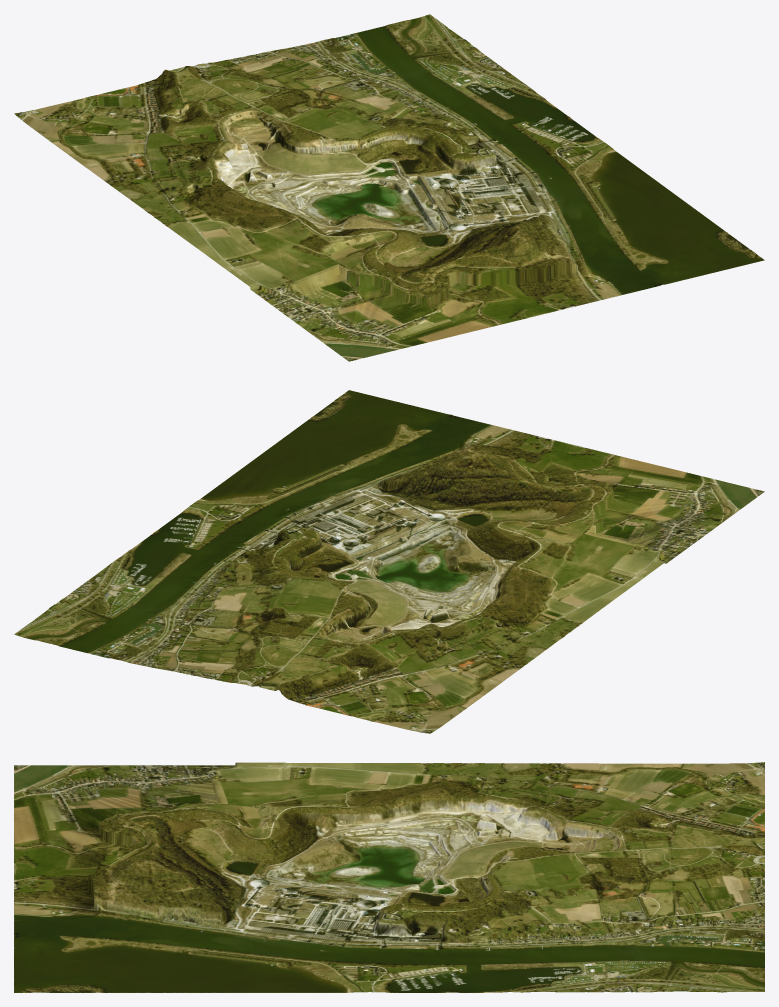
Rendered from present.glb.
The picture shows the model from 3 angles, top to bottom: view 1: azimuth 30°, elevation 25°; view 2: azimuth 150°, elevation 25°; view 3: azimuth 270°, elevation 25°; orthographic projection. The views are drawn at different scales.
Bounding box in the file's own units: 2164 × 154 × 3019.
Materials: 1 (1 with a texture image).
